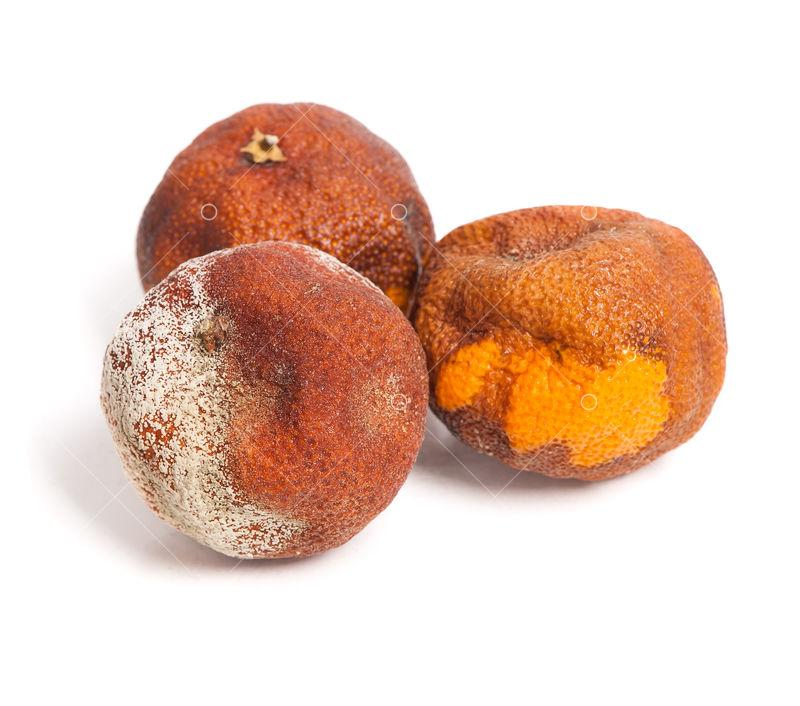Orange Rotten: (81, 237, 430, 586), (109, 83, 459, 381), (409, 180, 733, 499)
